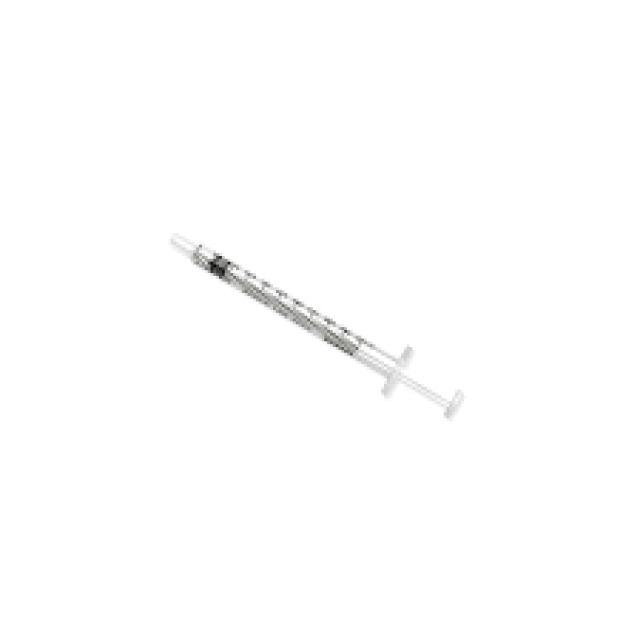syringe: (163, 230, 481, 438)
